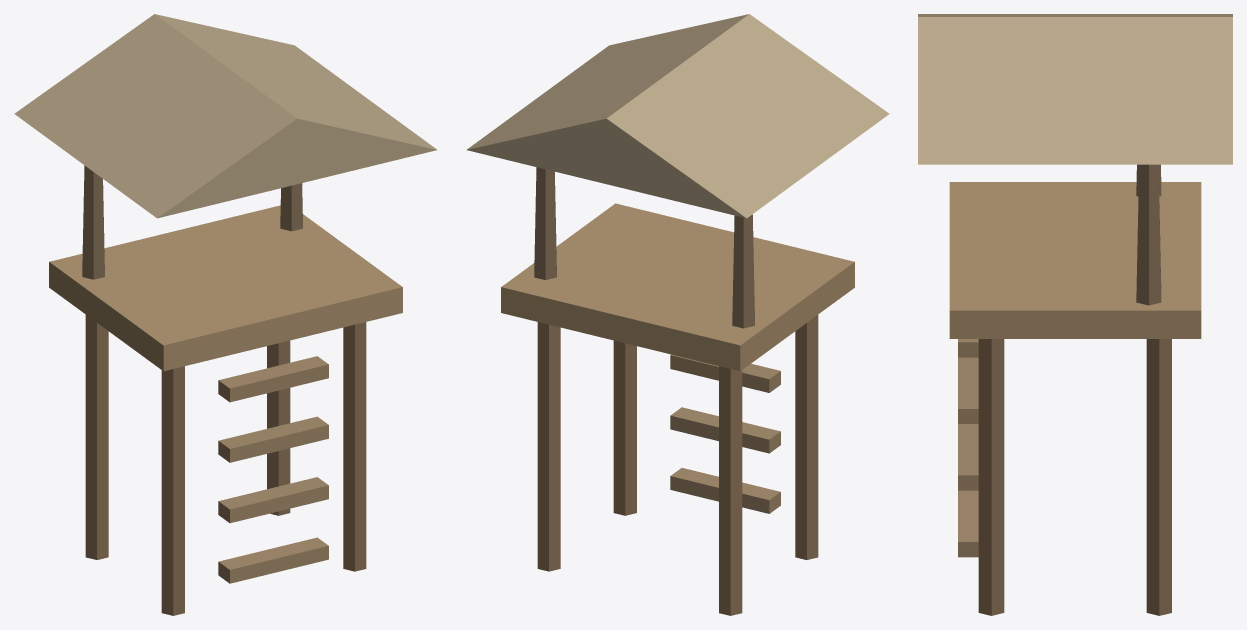
The model's file is map-exclusive-v3__shore_05.glb.
3 views of the same model, side by side, from view 1: azimuth 30°, elevation 25°; view 2: azimuth 150°, elevation 25°; view 3: azimuth 270°, elevation 25° (orthographic). The views are drawn at different scales.
Parts seen in each view (by area): view 1: shore_05; view 2: shore_05; view 3: shore_05.
Boxes of the visible parts, x1=… form: shore_05: x1=14, y1=14, x2=436, y2=615; shore_05: x1=467, y1=14, x2=889, y2=615; shore_05: x1=918, y1=14, x2=1232, y2=615.
Size of the model in its own units: 1.7 by 2.86 by 1.5.
